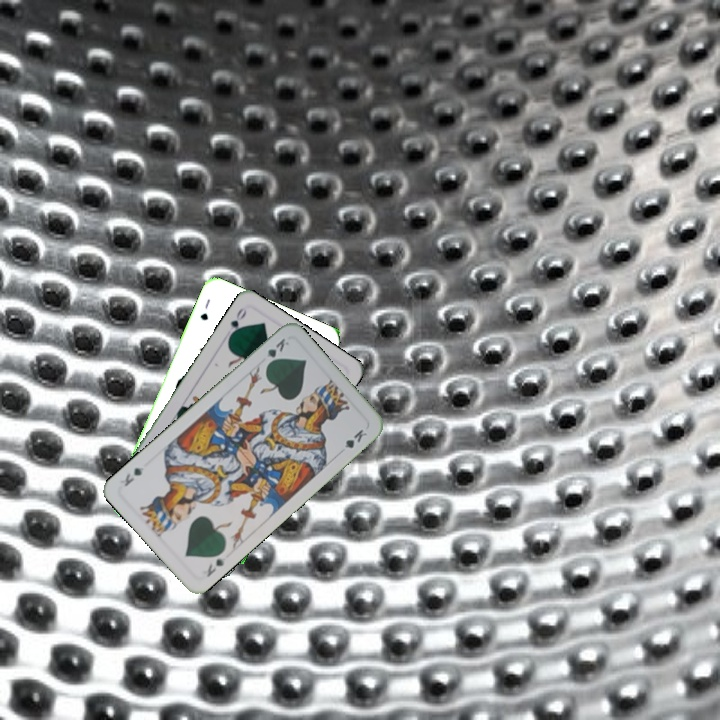GK: (261, 334, 292, 369), (202, 554, 227, 580)
GO: (224, 304, 249, 341)
GU: (196, 295, 213, 323)
